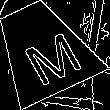M_NW: (8, 16, 78, 82)
